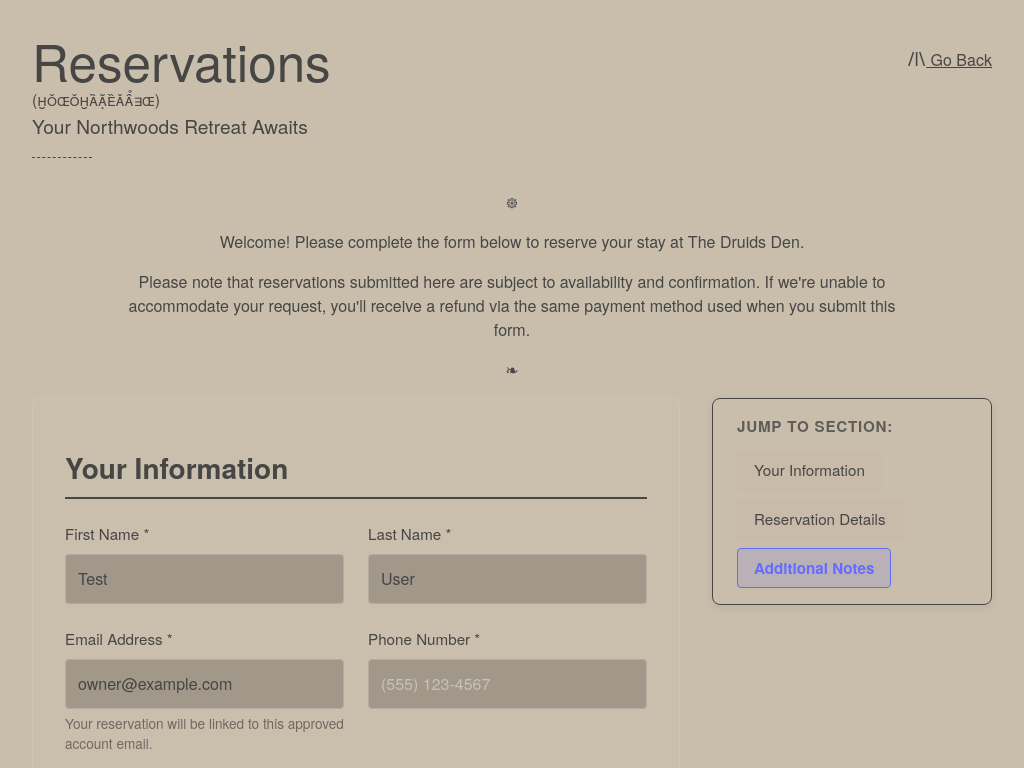
Test: Reservations › formats the phone number input
expect the field labelled "First Name *" is shown: met, box [65,554,344,604]
Type "5551234567" into the field labelled "Phone Number *". click: (508, 684)
box: [368,659,647,709]
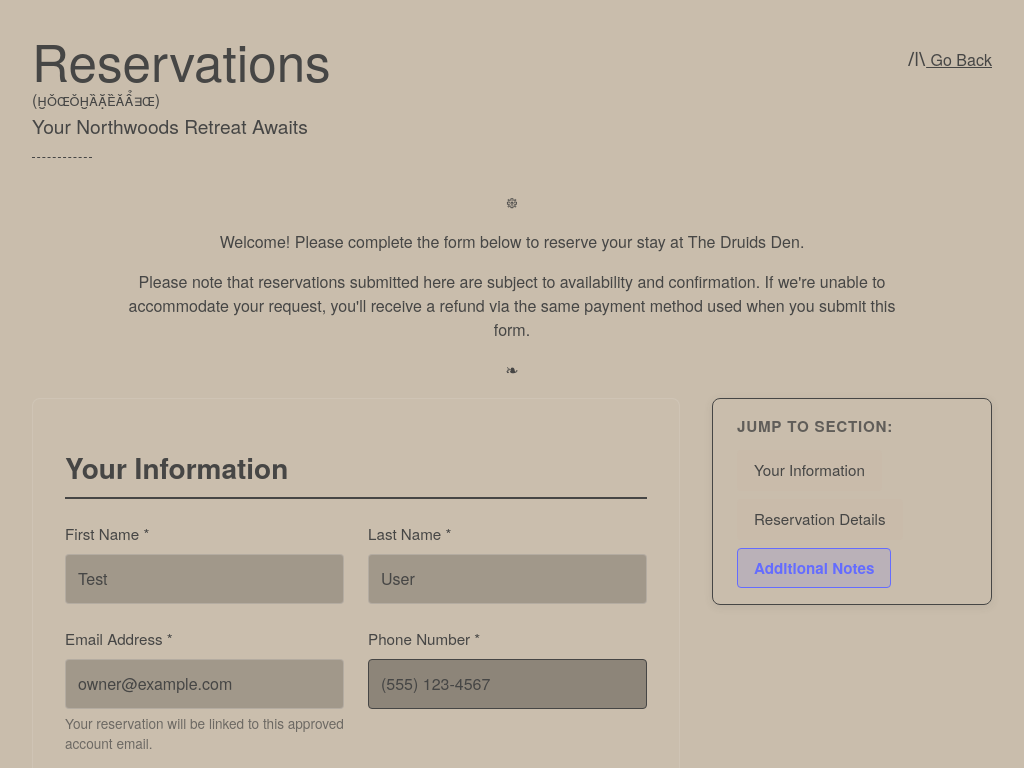
expect the field labelled "Phone Number *" holds "(555) 123-4567": met, box [368,659,647,709]
